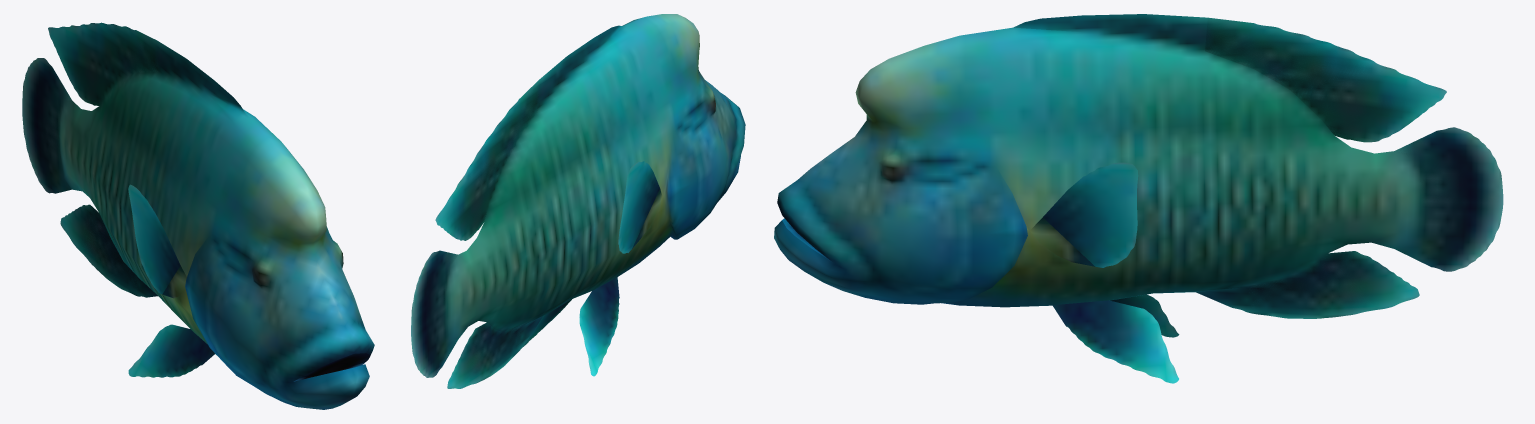
Rendered from napoleonfish.glb.
The picture shows the model from 3 angles, left to right: view 1: azimuth 30°, elevation 25°; view 2: azimuth 150°, elevation 25°; view 3: azimuth 270°, elevation 25°; orthographic projection. The views are drawn at different scales.
Bounding box in the file's own units: 4.02 × 10.18 × 18.74.
1 material, 1 textured.
